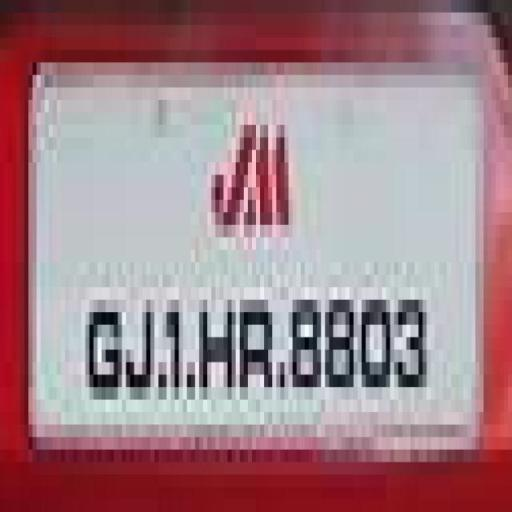number plate: (32, 62, 492, 462)
